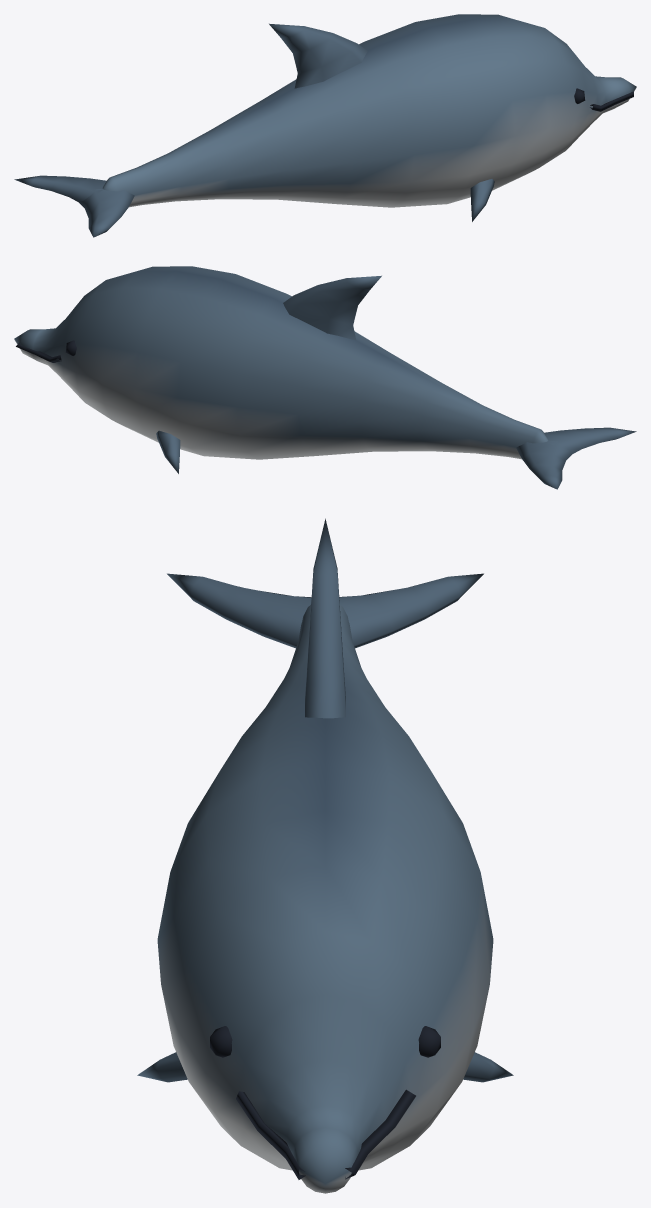
File: sea_dolphin.glb
The picture shows the model from 3 angles, top to bottom: view 1: azimuth 30°, elevation 25°; view 2: azimuth 150°, elevation 25°; view 3: azimuth 270°, elevation 25°; orthographic projection. The views are drawn at different scales.
Parts seen in each view (by area): view 1: sea_dolphin_main; view 2: sea_dolphin_main; view 3: sea_dolphin_main.
Part boxes in pixels (x1=…): sea_dolphin_main: x1=14, y1=14, x2=636, y2=237; sea_dolphin_main: x1=14, y1=266, x2=636, y2=489; sea_dolphin_main: x1=137, y1=518, x2=513, y2=1193.
Bounding box in the file's own units: 1.34 × 0.4702 × 0.3741.
